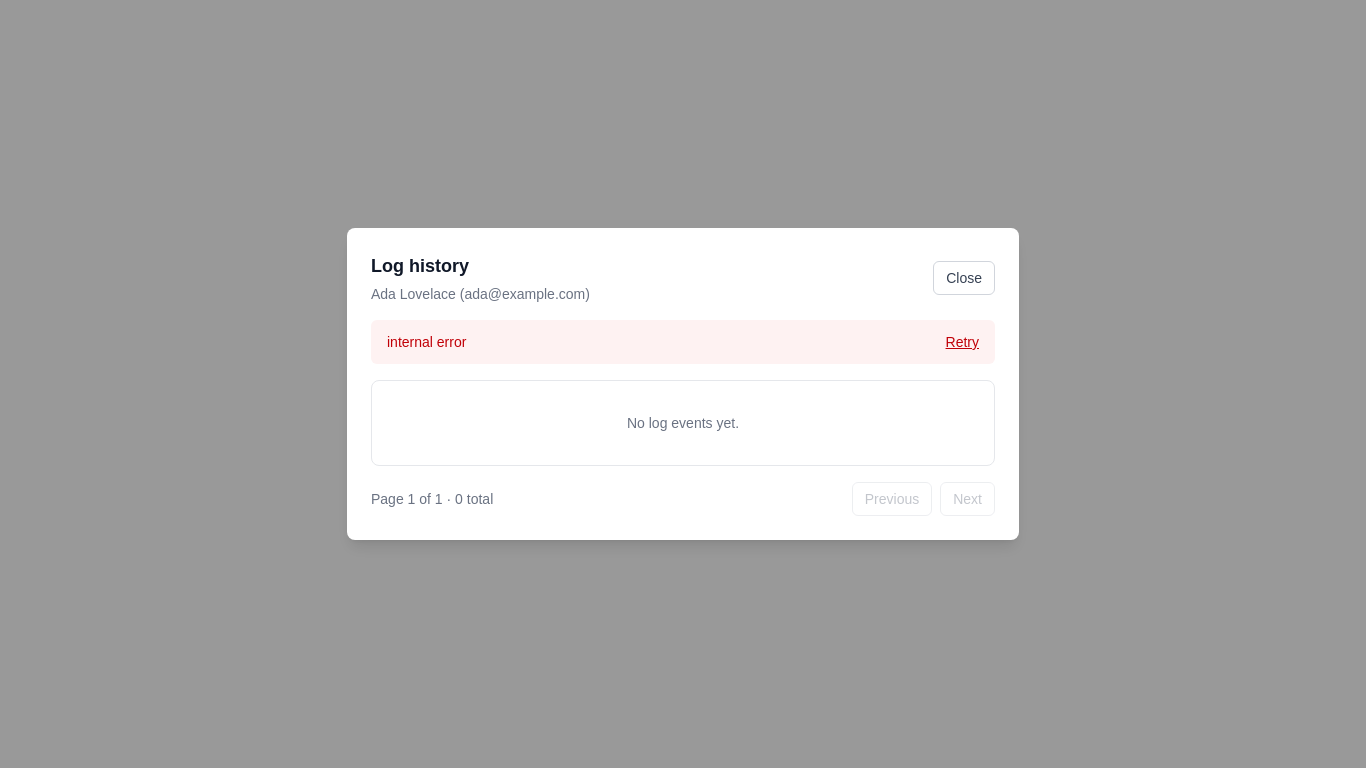
Test case: shows an error banner with a working retry
Expected: the text "internal error" is shown, left=387, top=332, right=466, bottom=352
Click the button "Retry": (962, 342) left=946, top=332, right=979, bottom=352
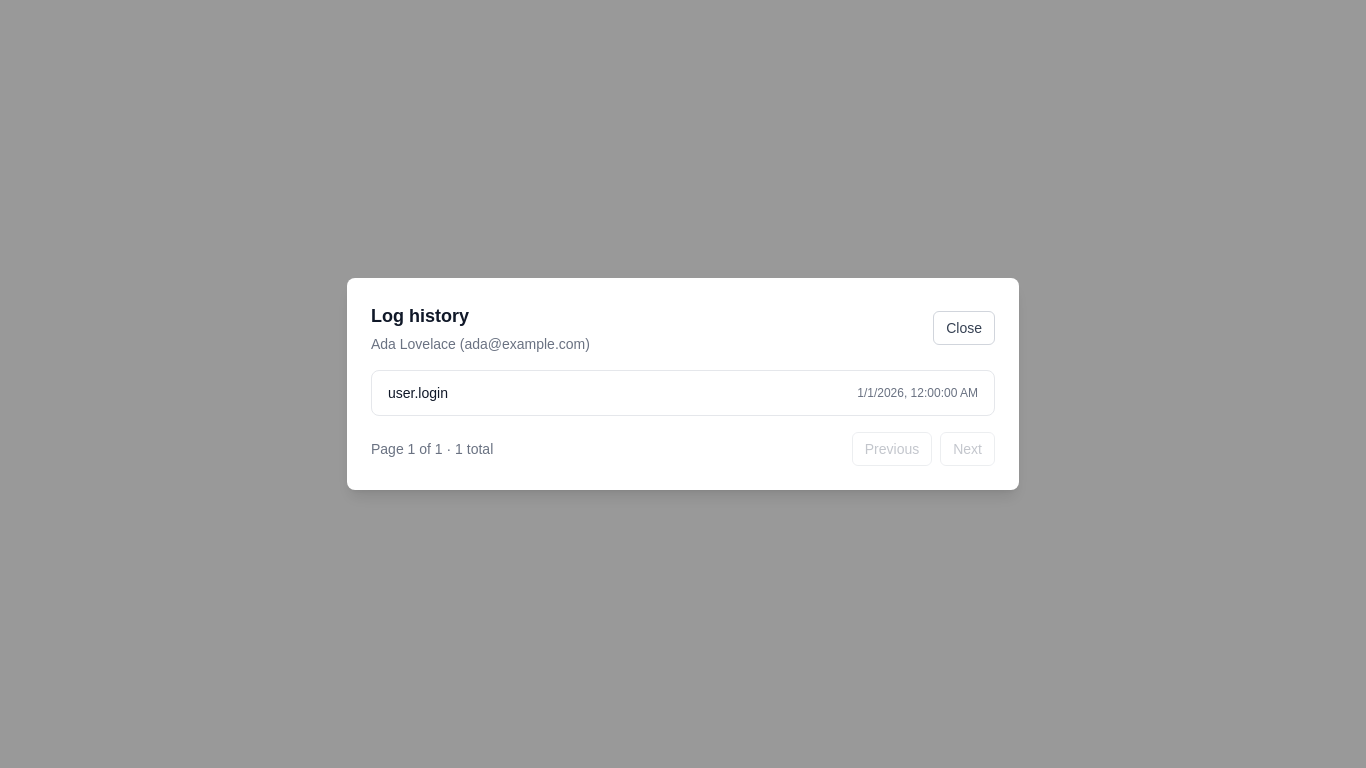
Result: the text "user.login" is shown at left=388, top=383, right=448, bottom=403
